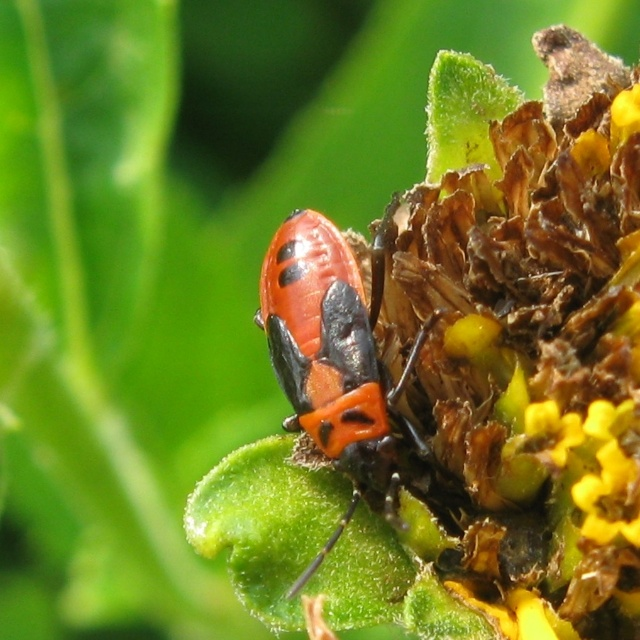Ladybug: (251, 194, 448, 595)
